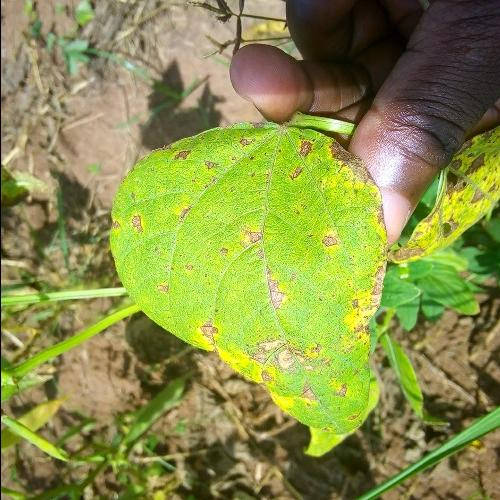hawar: (229, 328, 366, 424), (240, 213, 295, 316), (156, 131, 260, 181), (350, 250, 398, 322), (330, 141, 376, 210), (274, 125, 320, 191), (109, 207, 153, 252), (312, 227, 339, 262), (150, 274, 181, 302)
mozaik: (114, 121, 390, 351)
